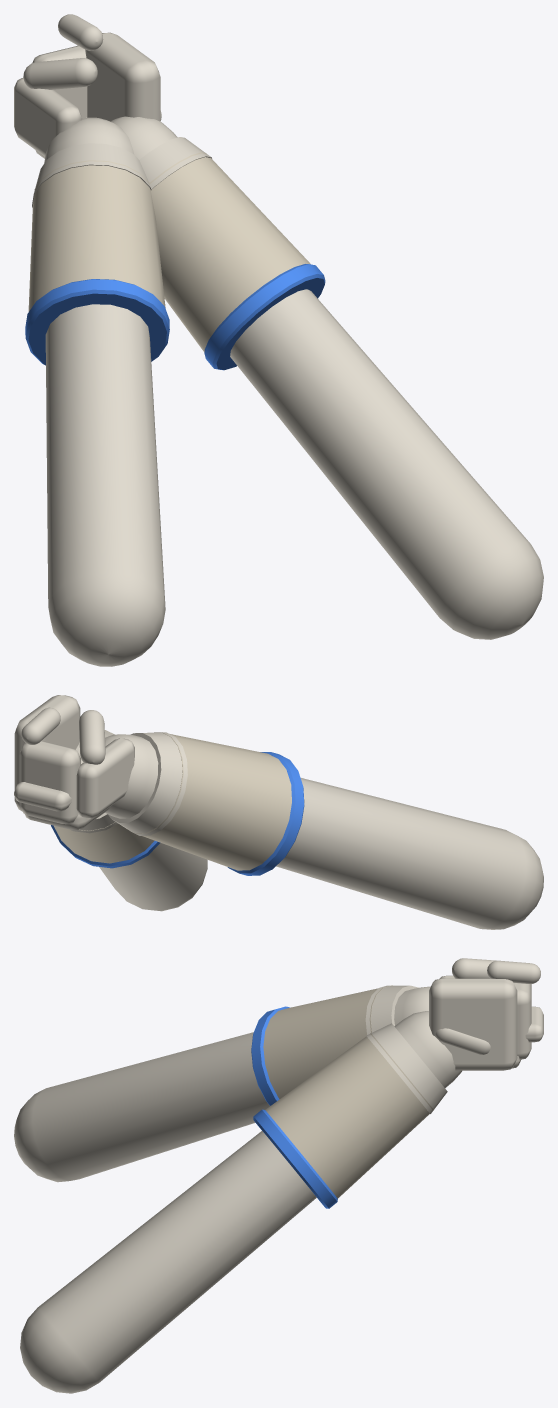
The model's file is origami.glb.
The picture shows the model from 3 angles, top to bottom: view 1: azimuth 30°, elevation 25°; view 2: azimuth 150°, elevation 25°; view 3: azimuth 270°, elevation 25°; orthographic projection. The views are drawn at different scales.
Parts seen in each view (by area): view 1: forearm_R, forearm_L, bracer_R, bracer_L, palm_R, bracer_trim_L, bracer_trim_R, fingers_L, cuff_L, thumb_R, cuff_R, trigger_finger_R (+1 smaller); view 2: forearm_L, bracer_L, forearm_R, cuff_L, fingers_R, fingers_L, bracer_R, palm_R, bracer_trim_L, thumb_R, knuckles_R, trigger_finger_R (+3 smaller); view 3: forearm_R, forearm_L, bracer_R, bracer_L, palm_R, cuff_R, bracer_trim_R, cuff_L, bracer_trim_L, fingers_R, trigger_finger_R, thumb_L (+1 smaller).
Boxes of the visible parts, left/top/right/bottom form: forearm_R: left=110, top=116, right=543, bottom=639; forearm_L: left=44, top=117, right=165, bottom=666; bracer_R: left=149, top=152, right=310, bottom=352; bracer_L: left=28, top=160, right=165, bottom=311; palm_R: left=85, top=32, right=160, bottom=121; bracer_trim_L: left=25, top=279, right=169, bottom=365; bracer_trim_R: left=204, top=264, right=325, bottom=370; fingers_L: left=14, top=78, right=81, bottom=156; cuff_L: left=32, top=143, right=151, bottom=207; thumb_R: left=23, top=58, right=97, bottom=89; cuff_R: left=139, top=137, right=211, bottom=189; trigger_finger_R: left=58, top=14, right=103, bottom=50; forearm_L: left=105, top=734, right=543, bottom=929; bracer_L: left=127, top=732, right=291, bottom=870; forearm_R: left=76, top=742, right=207, bottom=911; cuff_L: left=108, top=732, right=187, bottom=835; fingers_R: left=19, top=741, right=80, bottom=824; fingers_L: left=76, top=738, right=134, bottom=818; bracer_R: left=54, top=730, right=154, bottom=863; palm_R: left=14, top=695, right=80, bottom=811; bracer_trim_L: left=227, top=752, right=304, bottom=875; thumb_R: left=79, top=710, right=105, bottom=764; knuckles_R: left=14, top=782, right=71, bottom=811; trigger_finger_R: left=21, top=707, right=60, bottom=744; forearm_R: left=20, top=1011, right=461, bottom=1393; forearm_L: left=14, top=986, right=430, bottom=1182; bracer_R: left=265, top=1033, right=433, bottom=1198; bracer_L: left=263, top=985, right=392, bottom=1098; palm_R: left=429, top=978, right=517, bottom=1070; cuff_R: left=366, top=1023, right=447, bottom=1113; bracer_trim_R: left=253, top=1109, right=337, bottom=1208; cuff_L: left=365, top=985, right=418, bottom=1034; bracer_trim_L: left=251, top=1006, right=289, bottom=1105; fingers_R: left=514, top=983, right=531, bottom=1059; trigger_finger_R: left=487, top=960, right=540, bottom=983; thumb_L: left=435, top=1028, right=490, bottom=1054.
Bounding box in the file's own units: 0.4161 × 0.3715 × 0.4788.
